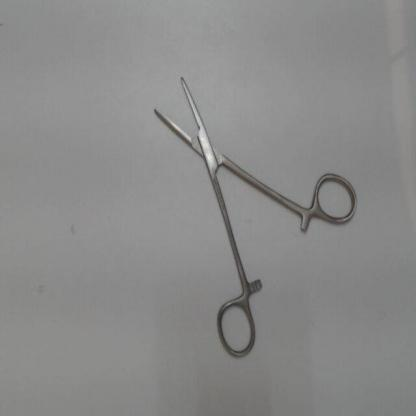Mayo Needle Holder: (141, 62, 363, 362)
